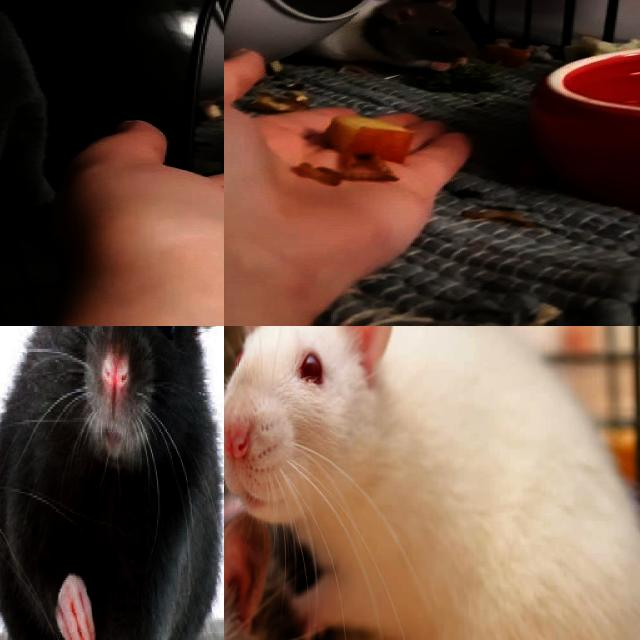rat: (226, 326, 640, 640), (16, 326, 224, 640), (224, 503, 430, 640), (305, 0, 480, 75)
